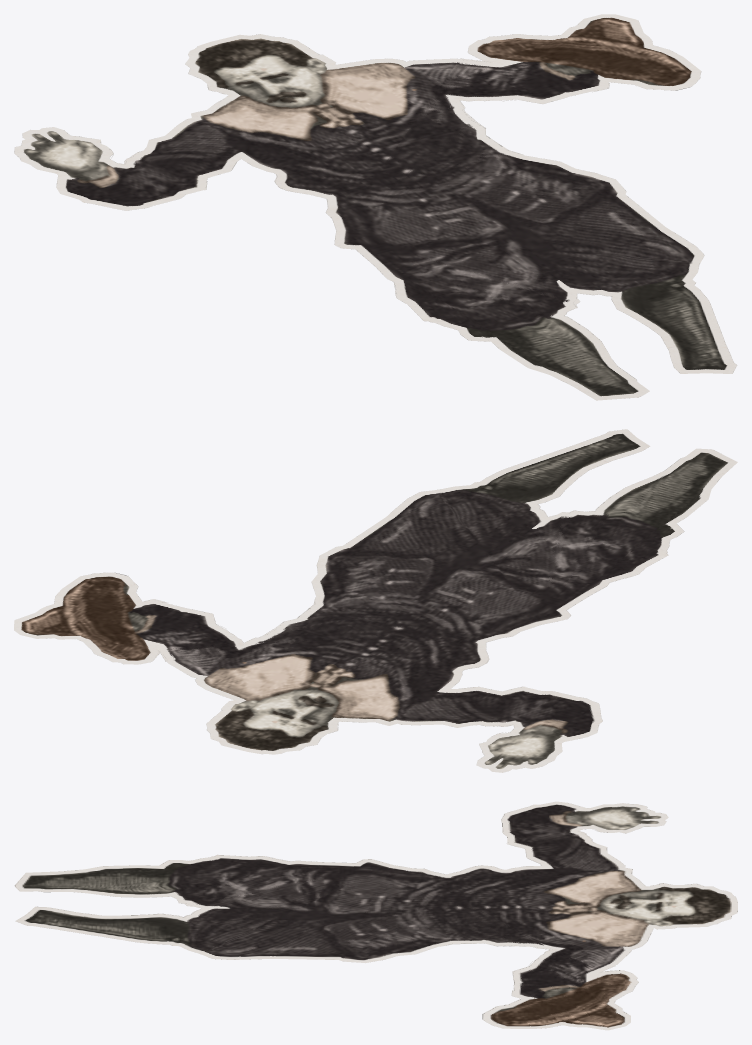
The model's file is father.fbx.
3 renders of one model, top to bottom at view 1: azimuth 30°, elevation 25°; view 2: azimuth 150°, elevation 25°; view 3: azimuth 270°, elevation 25°, orthographic. The views are drawn at different scales.
Visible parts, largest first — view 1: BézierCurve; view 2: BézierCurve; view 3: BézierCurve.
Boxes of the visible parts, x1,y1,x2,y2 form: BézierCurve: (14, 14, 737, 400); BézierCurve: (14, 429, 737, 772); BézierCurve: (14, 801, 737, 1030).
Size of the model in its own units: 374 by 8.14e-05 by 500.
